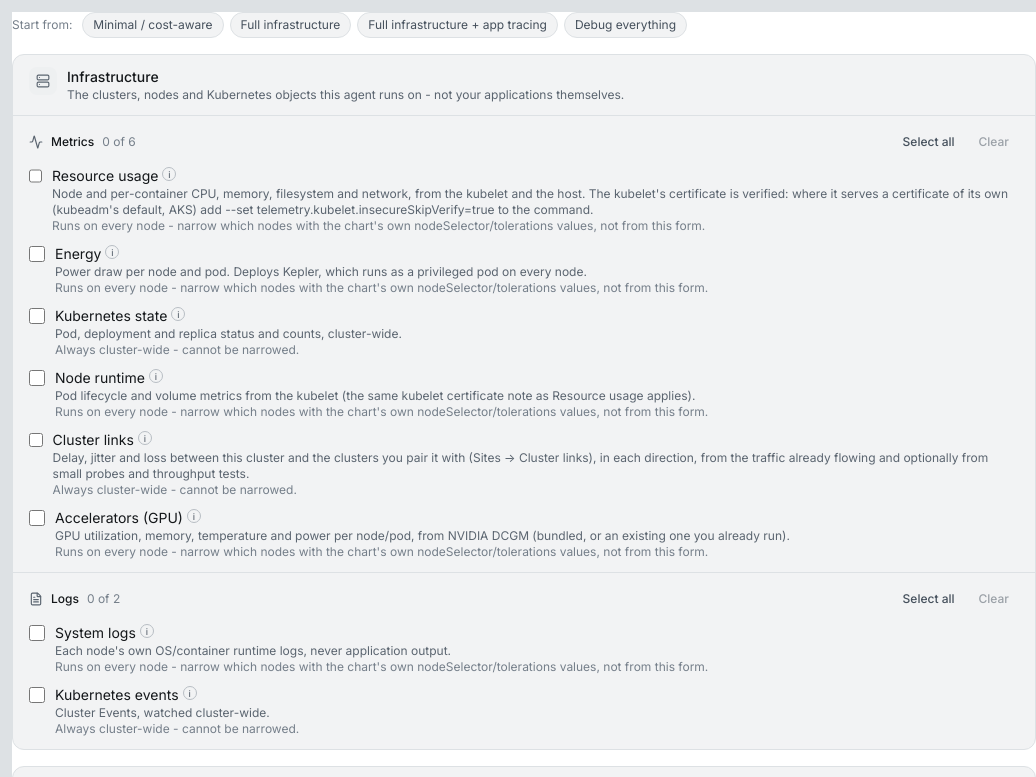
Test: CollectStep › accelerators show their source picker only while they are on
What coordinates should you click on to do the following:
click the checkbox with test id "c-accelerators"
I would click on:
 (37, 518)
Its box is [29,510,45,526].
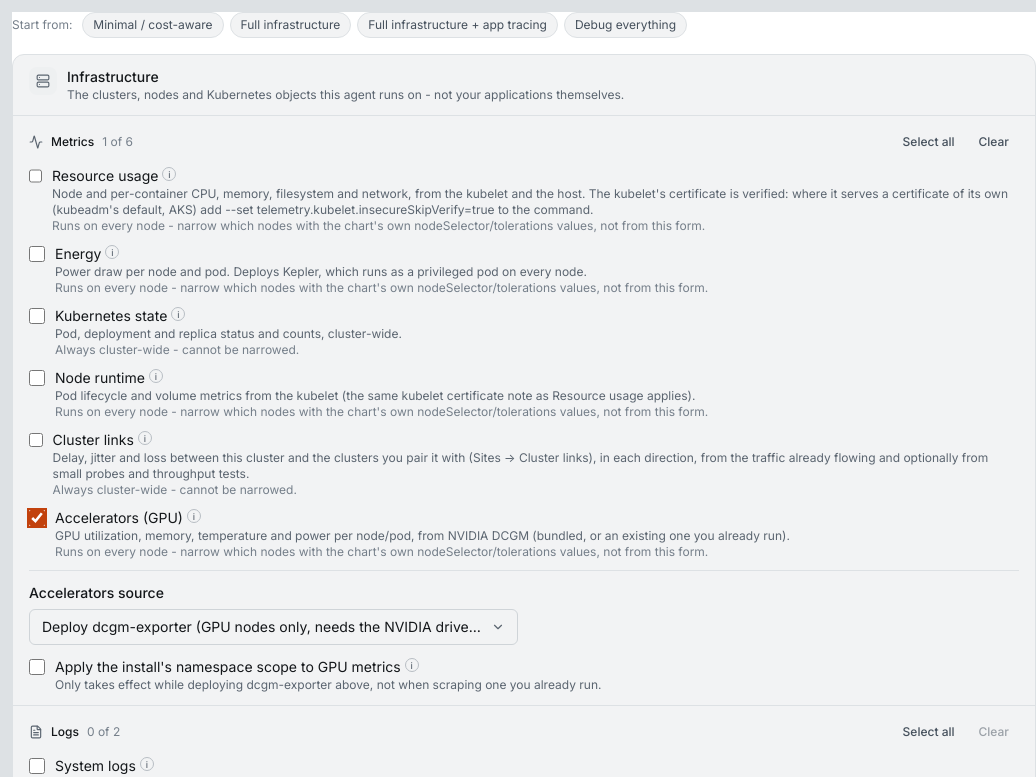
expect the dropdown with test id "c-accelerators-source" is shown: met, box [29,609,518,645]
What coordinates should you click on to do the following:
click the checkbox with test id "c-accelerators"
I would click on:
 (37, 518)
Its box is [29,510,45,526].
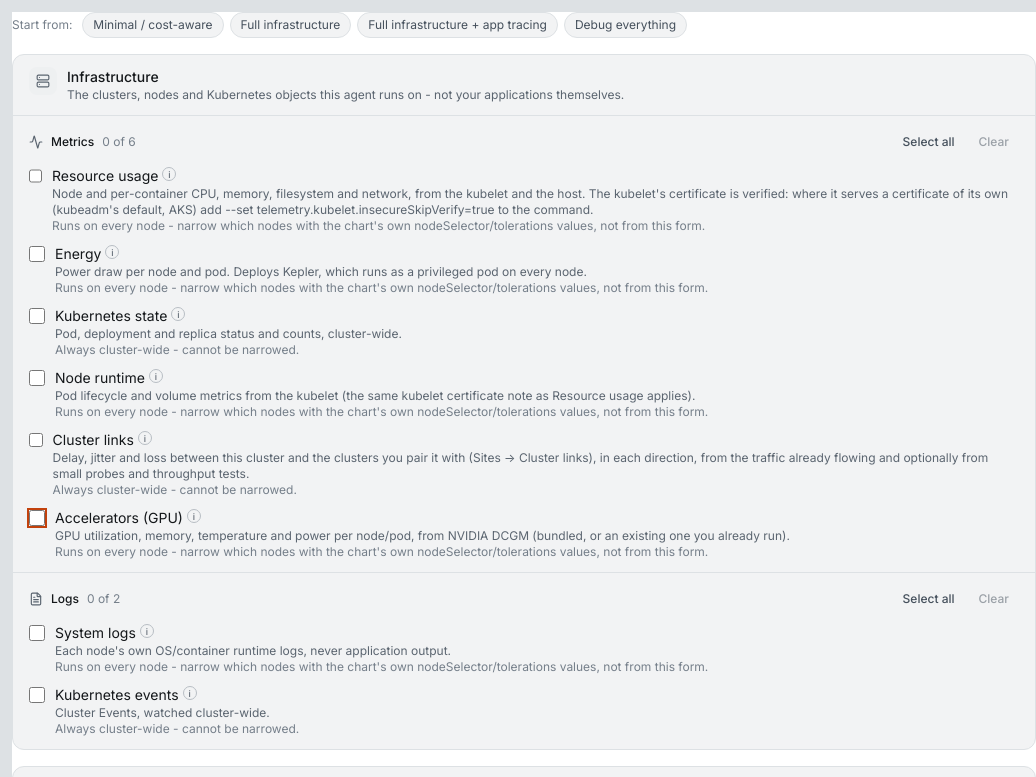
expect the dropdown with test id "c-accelerators-source" is gone: met
